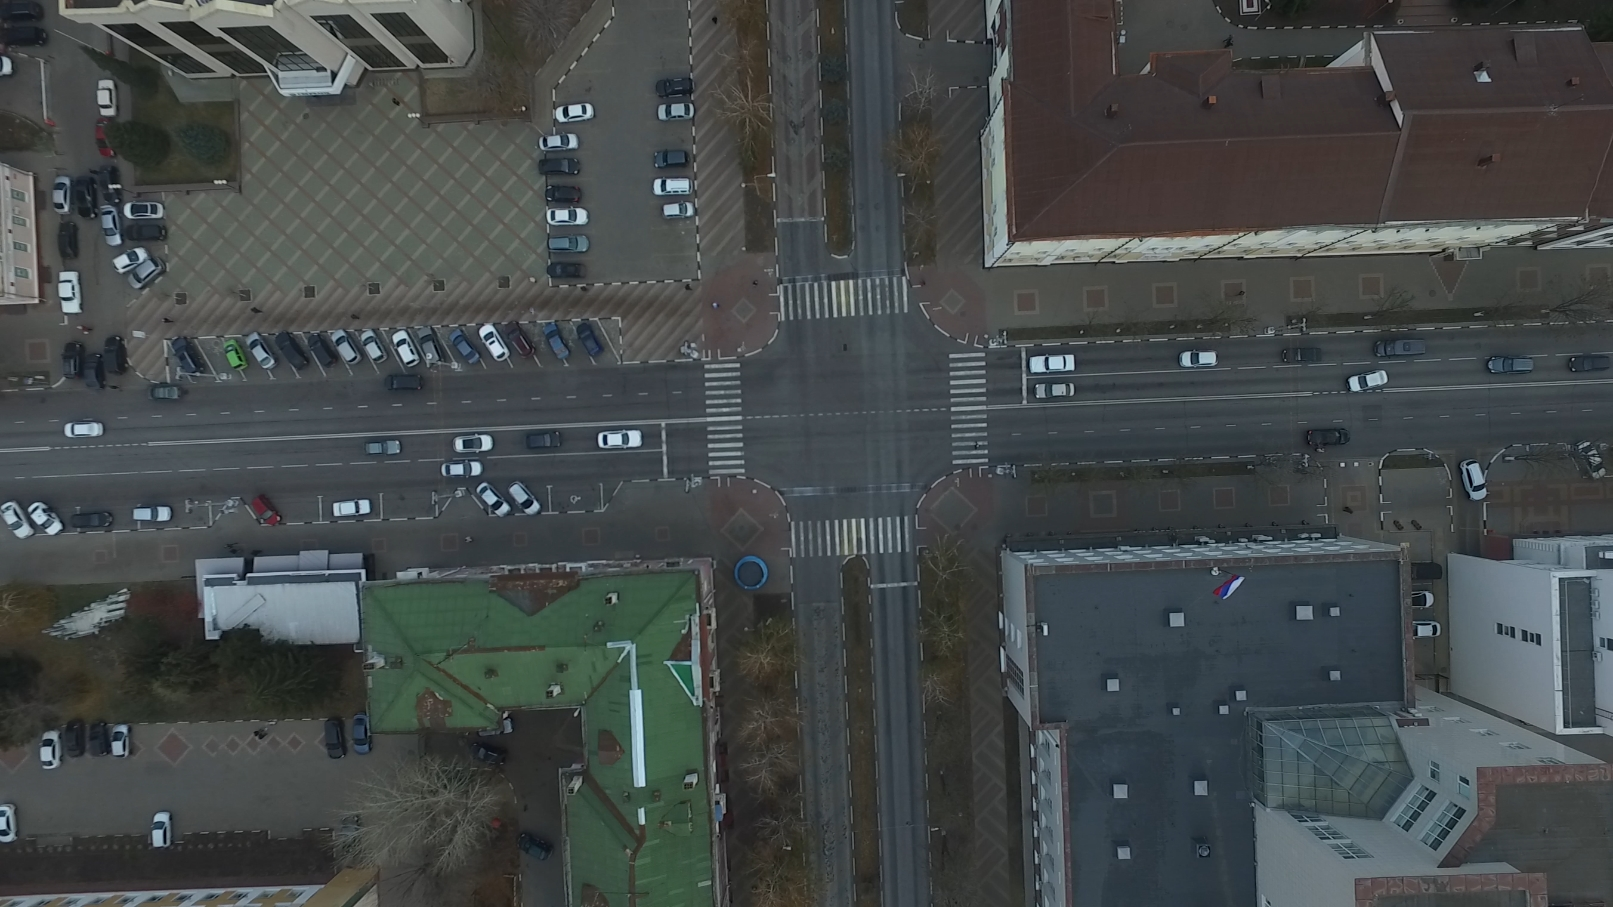car: (1455, 457, 1492, 503), (166, 334, 206, 377), (466, 478, 507, 515), (270, 327, 305, 369), (1570, 439, 1604, 481), (323, 327, 359, 367), (239, 328, 275, 368), (125, 256, 166, 290), (27, 501, 62, 539), (53, 270, 83, 316), (500, 321, 535, 359), (35, 726, 64, 772), (540, 321, 571, 362), (410, 323, 440, 365), (476, 323, 510, 361), (445, 328, 479, 365), (512, 832, 551, 864), (335, 813, 362, 857), (504, 480, 538, 514), (115, 212, 160, 238), (465, 739, 504, 769), (56, 720, 85, 760), (97, 205, 124, 248), (355, 327, 387, 362), (301, 329, 332, 365), (1, 499, 27, 544), (1344, 369, 1388, 394), (150, 810, 176, 852), (99, 334, 125, 377), (105, 722, 133, 762), (112, 248, 152, 276), (92, 112, 117, 155), (45, 171, 72, 212), (1, 23, 48, 47), (1306, 427, 1350, 452), (93, 159, 119, 200), (92, 80, 119, 118), (543, 203, 588, 225), (348, 712, 371, 755), (391, 328, 418, 365), (80, 352, 106, 390), (250, 496, 281, 528), (321, 717, 345, 759), (1566, 353, 1613, 374), (1029, 354, 1080, 373), (574, 322, 603, 355), (119, 193, 162, 215), (547, 102, 593, 123), (74, 175, 95, 220), (58, 336, 81, 377), (594, 429, 641, 449), (218, 334, 245, 370), (380, 372, 423, 393), (654, 101, 697, 122), (1486, 357, 1533, 375), (654, 75, 694, 97), (451, 433, 495, 453), (441, 458, 485, 478), (83, 720, 106, 757), (64, 511, 111, 529), (534, 156, 581, 175), (547, 233, 590, 252), (535, 130, 577, 150), (650, 147, 688, 169), (1374, 340, 1427, 355), (653, 175, 694, 195), (1177, 348, 1218, 368), (1281, 347, 1328, 363), (545, 261, 588, 279), (62, 422, 105, 440), (657, 200, 695, 220), (544, 185, 584, 204), (60, 220, 80, 258), (146, 382, 186, 401), (129, 506, 171, 524), (526, 430, 563, 449), (363, 439, 402, 456), (1030, 384, 1073, 400), (1405, 564, 1436, 585), (329, 498, 371, 514), (1, 802, 17, 842), (1405, 623, 1436, 640), (1405, 594, 1431, 611)
